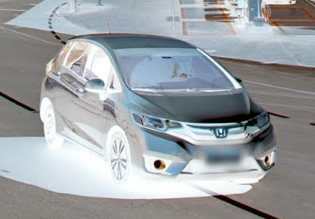car: (39, 33, 277, 183)
